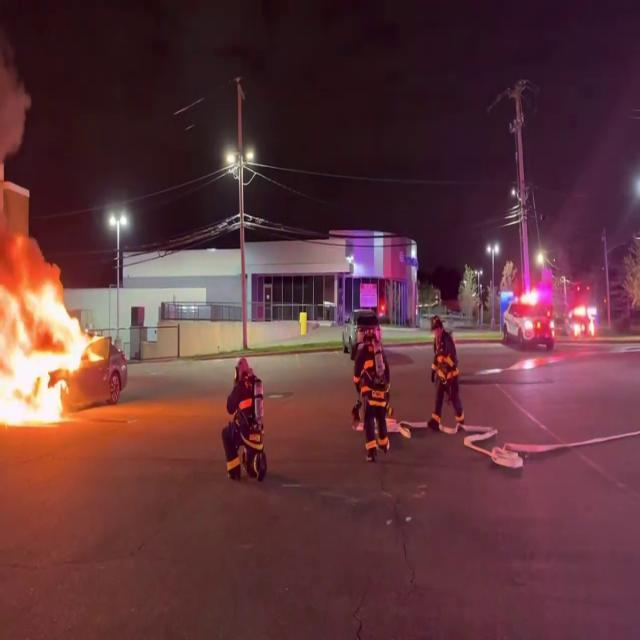Fire: (0, 266, 97, 427)
Smoke: (1, 1, 34, 272)
